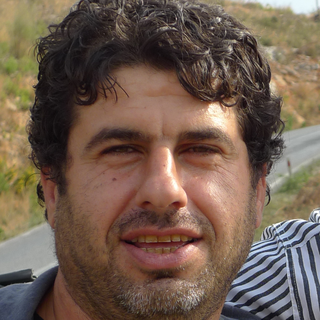eye: (95, 140, 145, 162), (179, 140, 226, 163)
